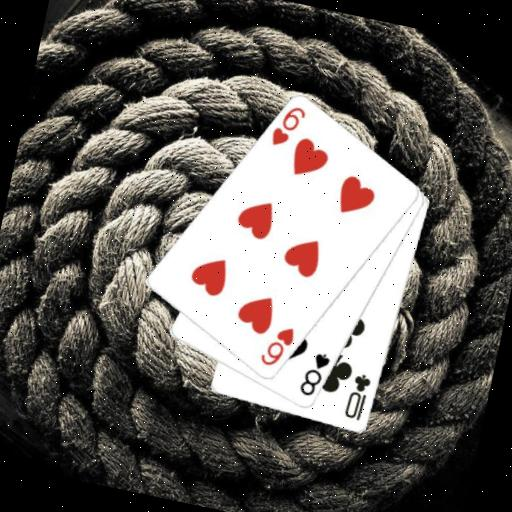10C: (340, 369, 374, 424)
6H: (266, 99, 309, 152), (256, 319, 298, 372)
8S: (294, 346, 333, 401)
